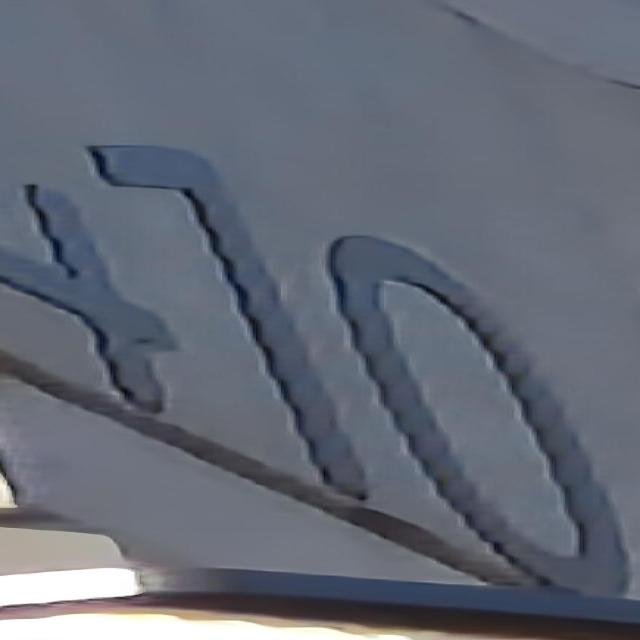character: (69, 128, 397, 506), (319, 230, 640, 607), (0, 171, 221, 430)
